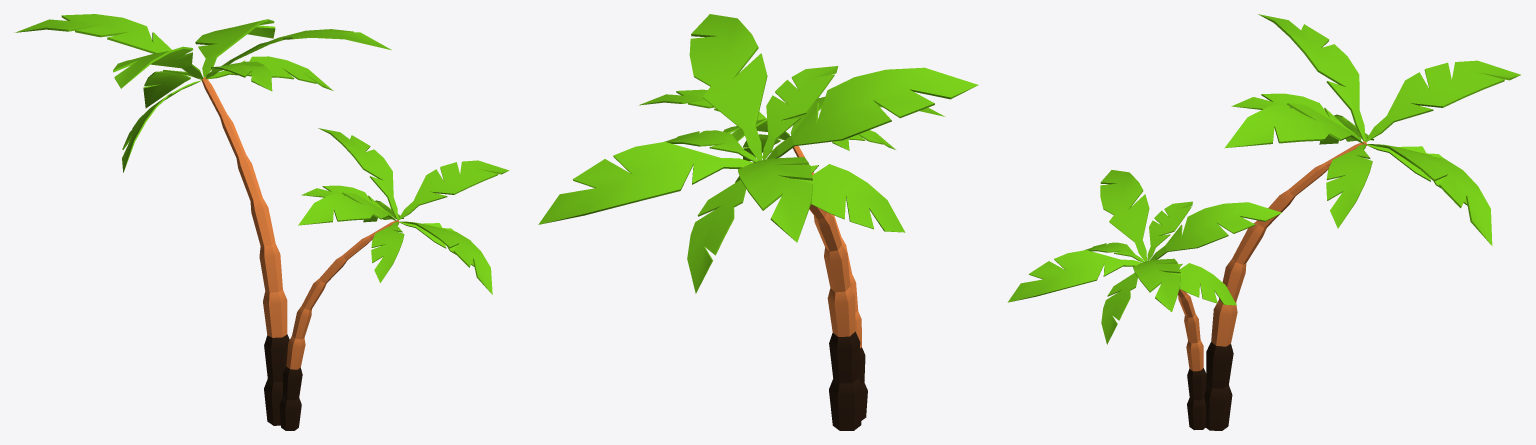
Rendered from Dual_palm.fbx.
The picture shows the model from 3 angles, left to right: view 1: azimuth 30°, elevation 25°; view 2: azimuth 150°, elevation 25°; view 3: azimuth 270°, elevation 25°; orthographic projection. The views are drawn at different scales.
Parts seen in each view (by area): view 1: Trunk, Trunk002; view 2: Trunk, Trunk002; view 3: Trunk, Trunk002.
Part boxes in pixels (x1=…): Trunk: x1=14, y1=14, x2=391, y2=425; Trunk002: x1=279, y1=128, x2=509, y2=430; Trunk: x1=538, y1=14, x2=978, y2=430; Trunk002: x1=639, y1=89, x2=945, y2=420; Trunk: x1=1204, y1=14, x2=1520, y2=430; Trunk002: x1=1007, y1=170, x2=1281, y2=430.
Size of the model in its own units: 450 by 452 by 588.
